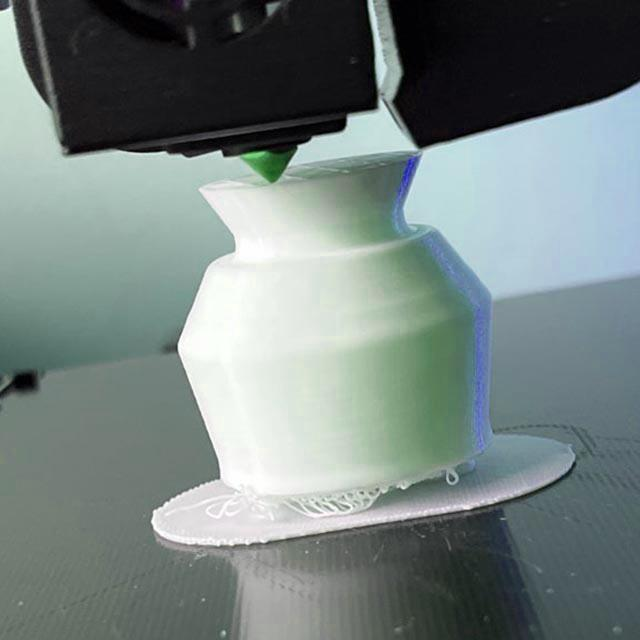Spaghetti: (162, 477, 395, 522)
